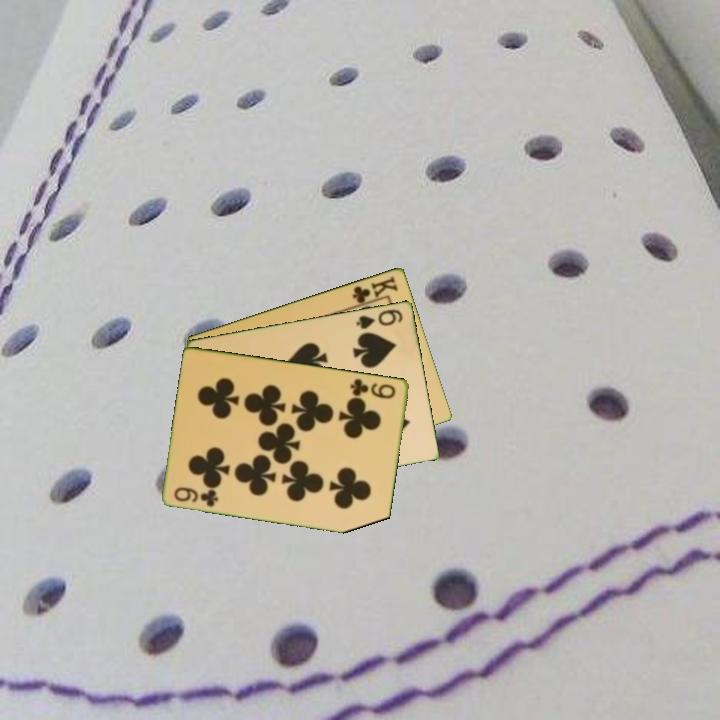6s: (353, 305, 406, 331)
9c: (347, 375, 399, 401), (171, 483, 222, 509)
Kc: (349, 272, 401, 309)
